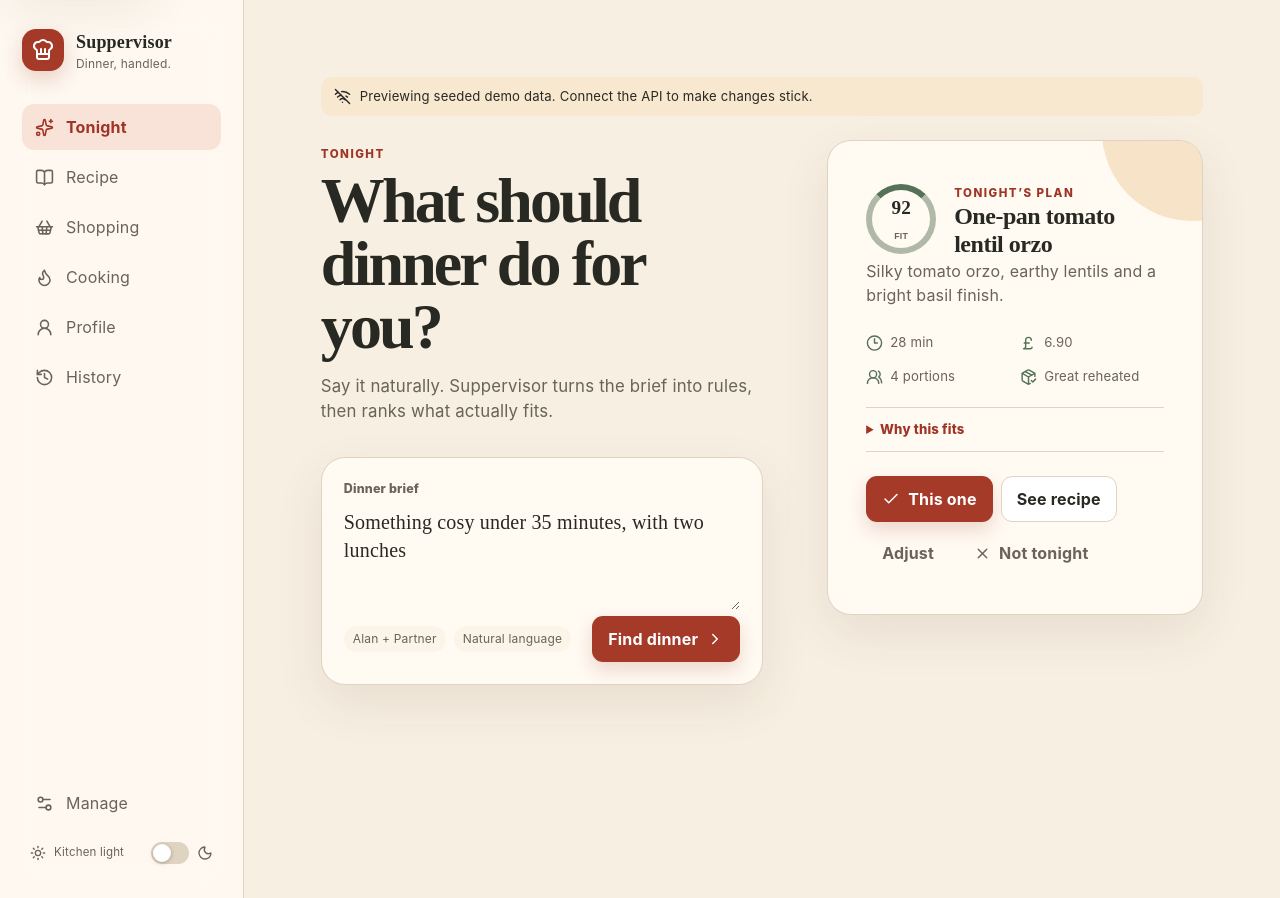
Suppervisor PWA › keeps the complete dinner workflow usable with labelled demo data
The width and height of the screenshot is (1280, 898).
Expected: the heading "What should dinner do for you?" is shown, [321, 165, 644, 362]
Expected: the text "Previewing seeded demo data. Connect the API to make changes stick." is shown, [321, 77, 1203, 116]
What coordinates should you click on to do the following:
click the button "Recipe"
I would click on:
 (122, 177)
Its box is [22, 154, 221, 200].
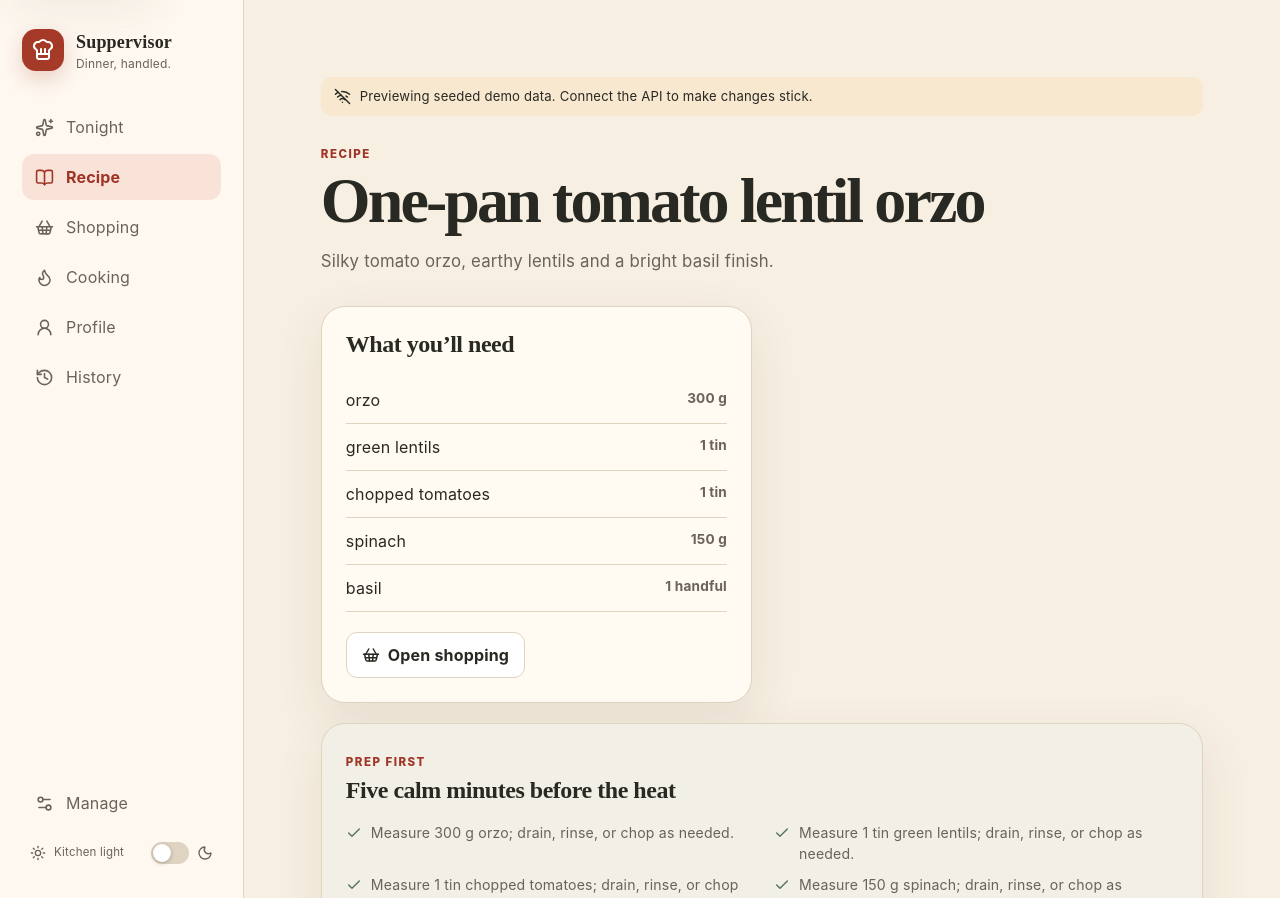
Result: the heading "One-pan tomato lentil orzo" is shown at [321, 170, 1041, 233]
Result: the heading "Five calm minutes before the heat" is shown at [346, 777, 675, 803]
What coordinates should you click on to do the following:
click the button "Open shopping"
I would click on:
 (436, 655)
Its box is [346, 632, 525, 678].
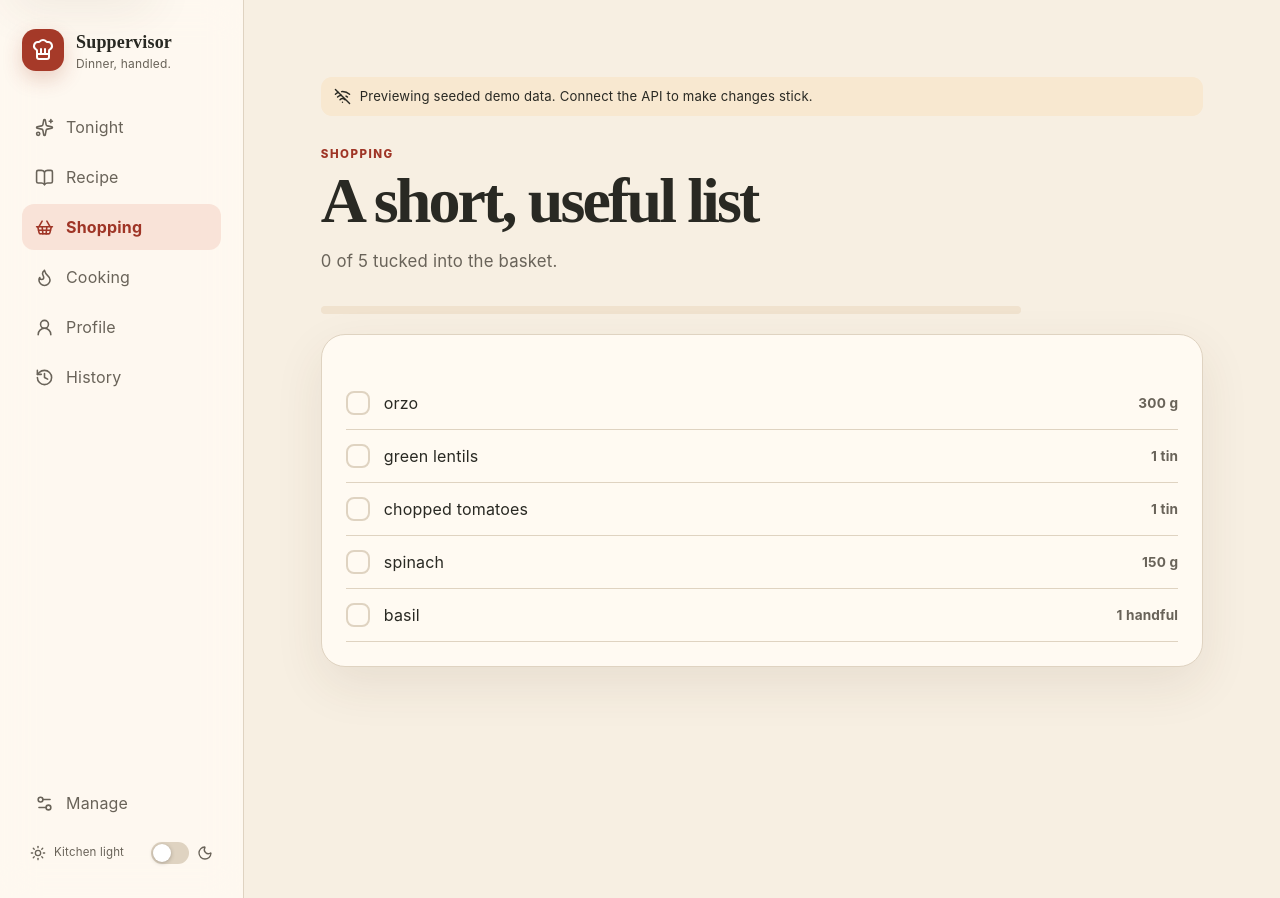
Result: the text "0 of 5 tucked into the basket." is shown at [321, 251, 558, 271]
What coordinates should you click on to do the following:
click the checkbox labelled "orzo 300 g"
I would click on:
 (401, 403)
Its box is [346, 377, 1178, 430].
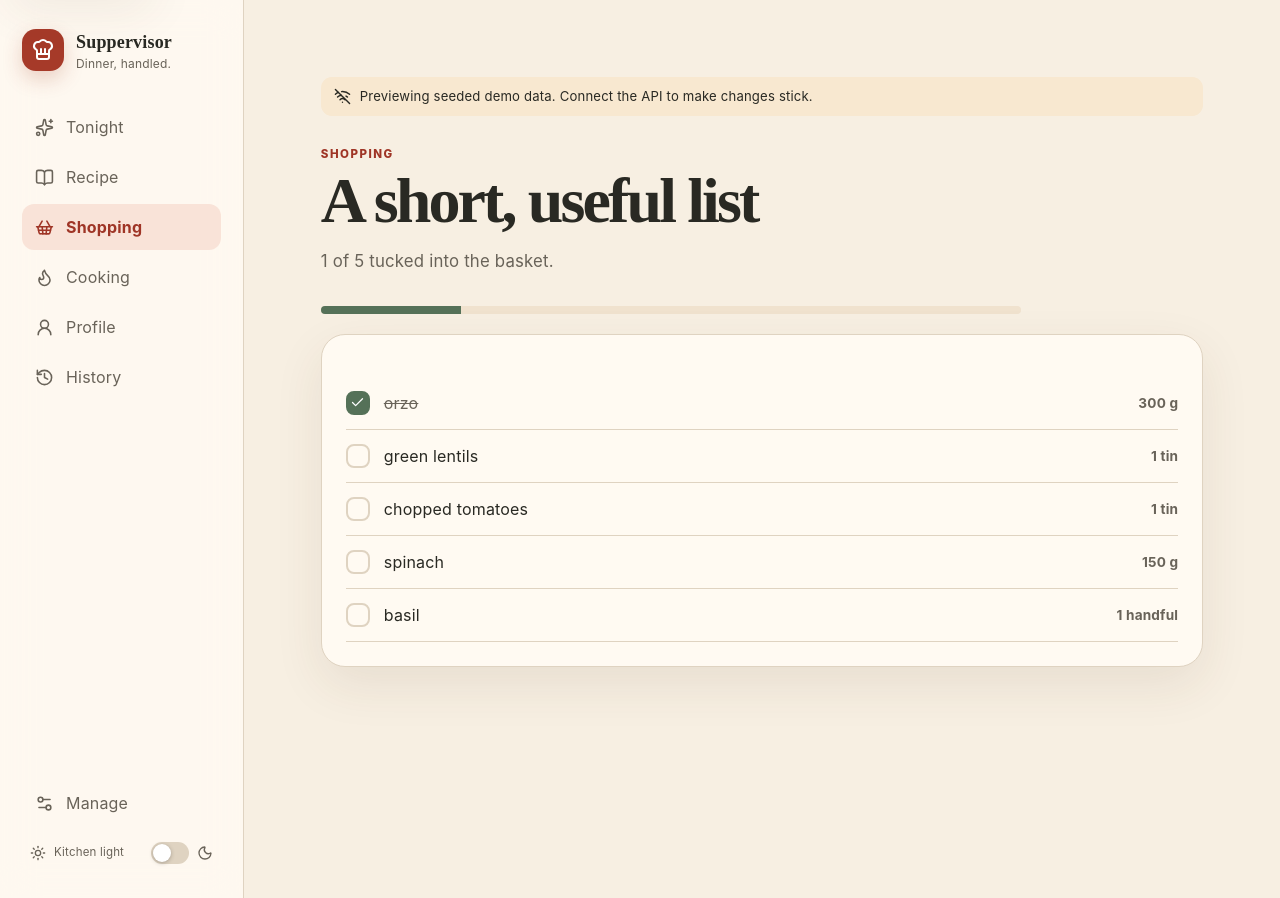
Result: the text "1 of 5 tucked into the basket." is shown at [321, 251, 554, 271]
